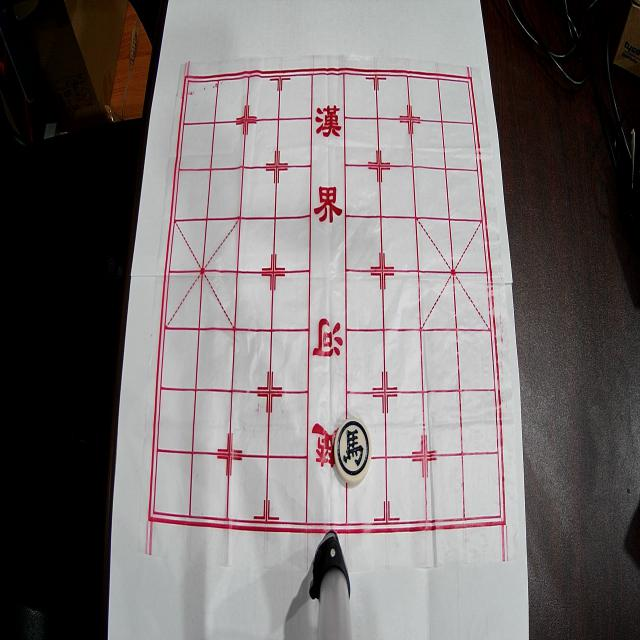black-horse: (334, 418, 372, 485)
